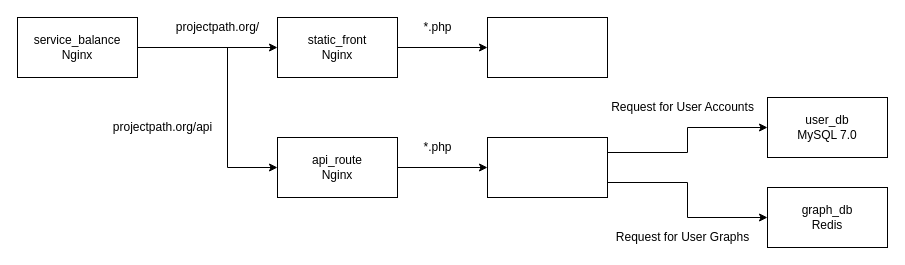
Some shapes in this 905 by 265 pixel diagram are drawn without their labels. Each missing label, with the box of its shape:
api php7.0-fpm: (486, 136, 608, 198)
dynamic_front php7.0-fpm: (486, 16, 608, 78)
